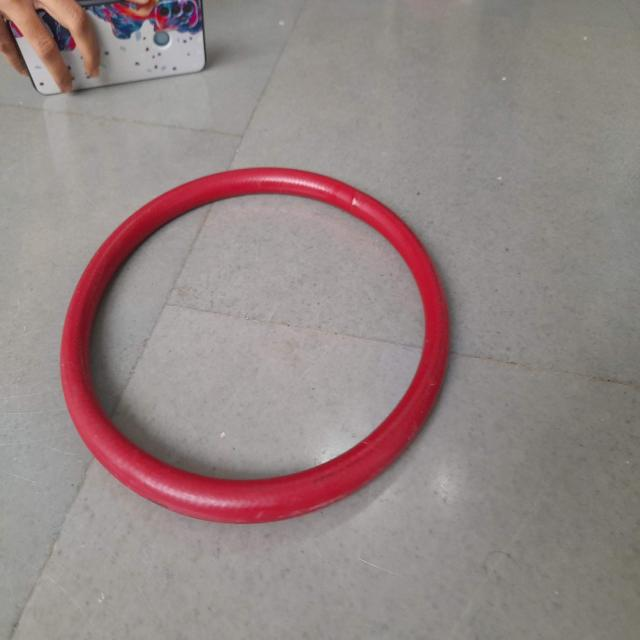daire: (63, 160, 451, 523)
